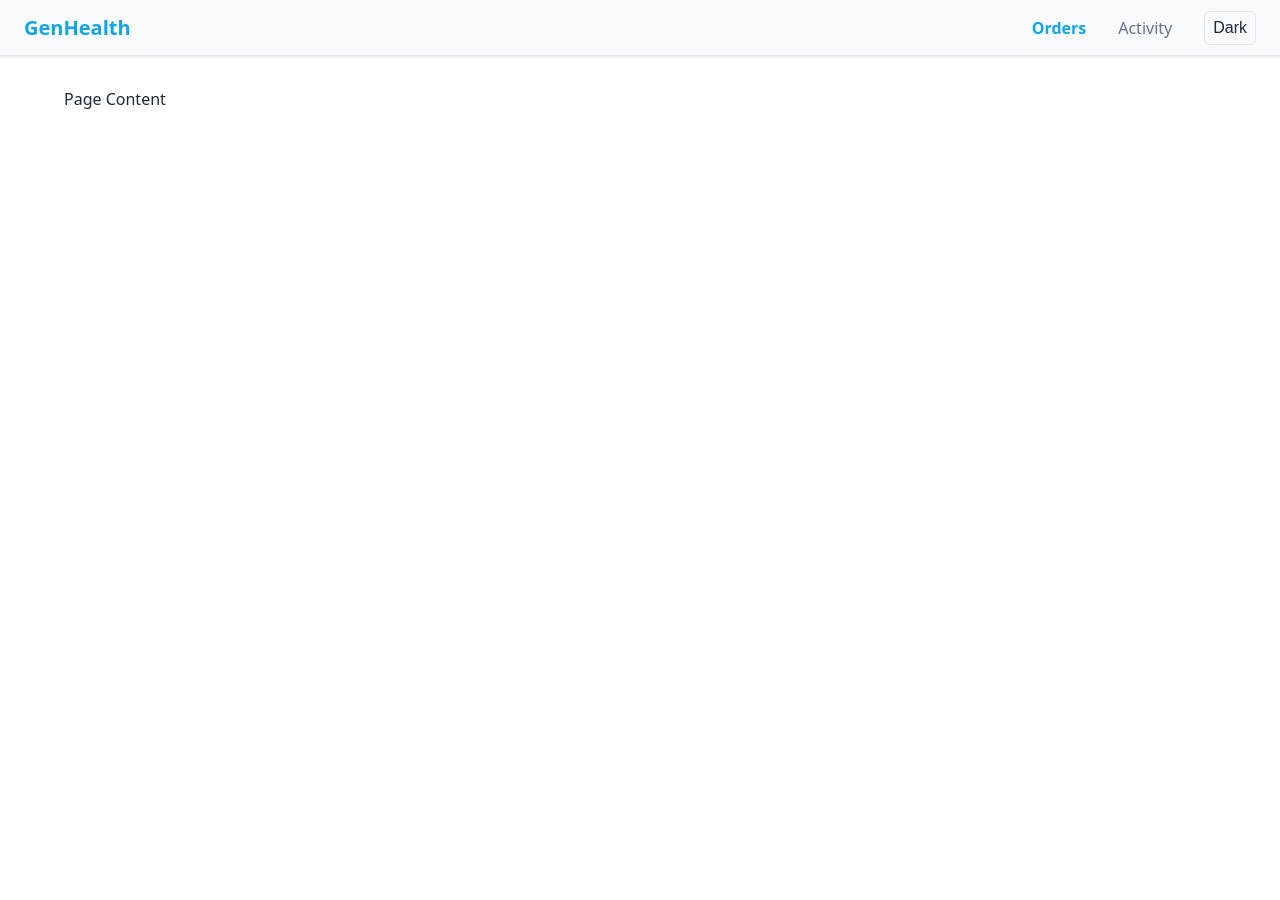
Test: Layout › toggles theme label when toggle button is clicked
Click the button with aria-label "Toggle theme": (1230, 28) [1204, 10, 1256, 44]
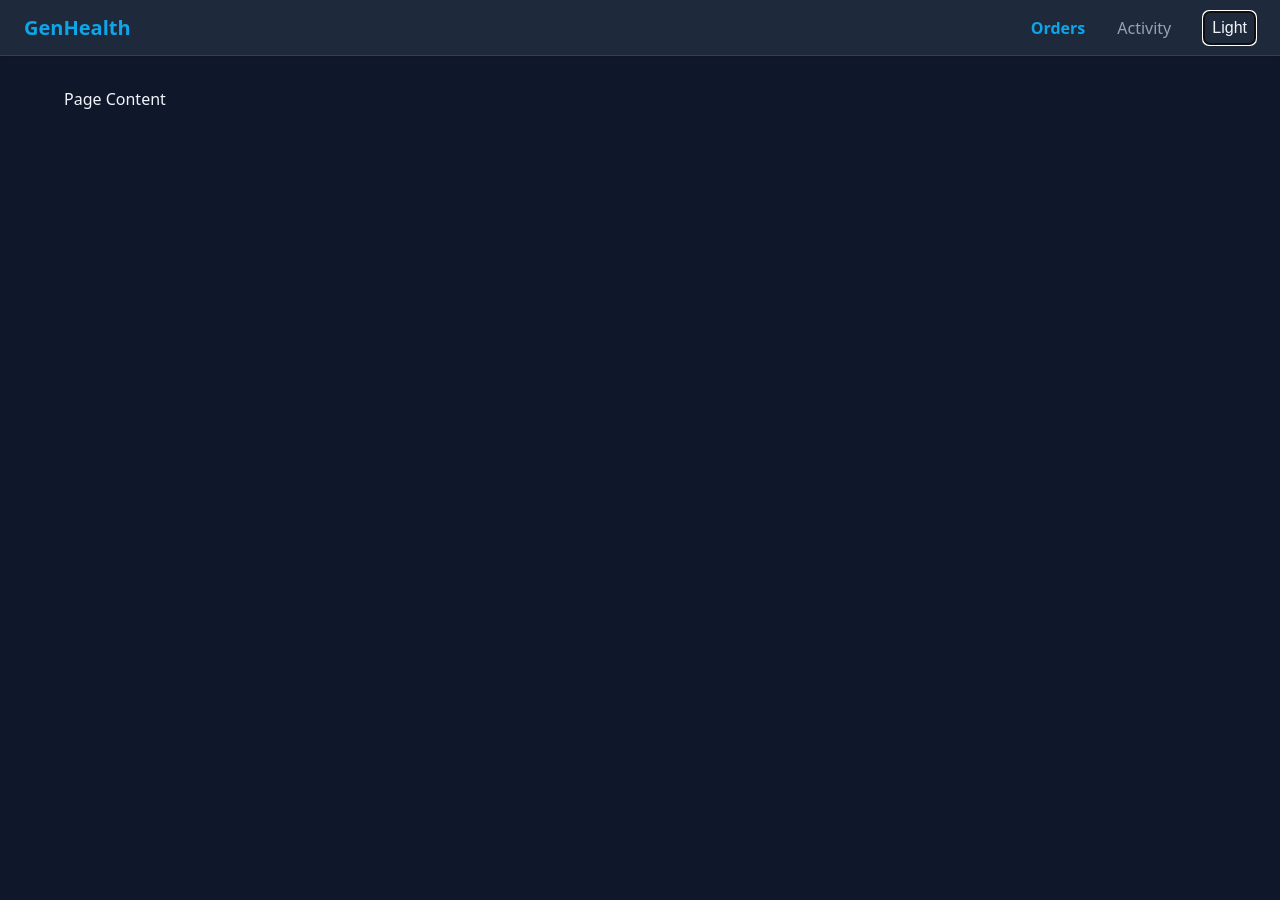
Expected: the button "Toggle theme" no longer shows "Dark"
